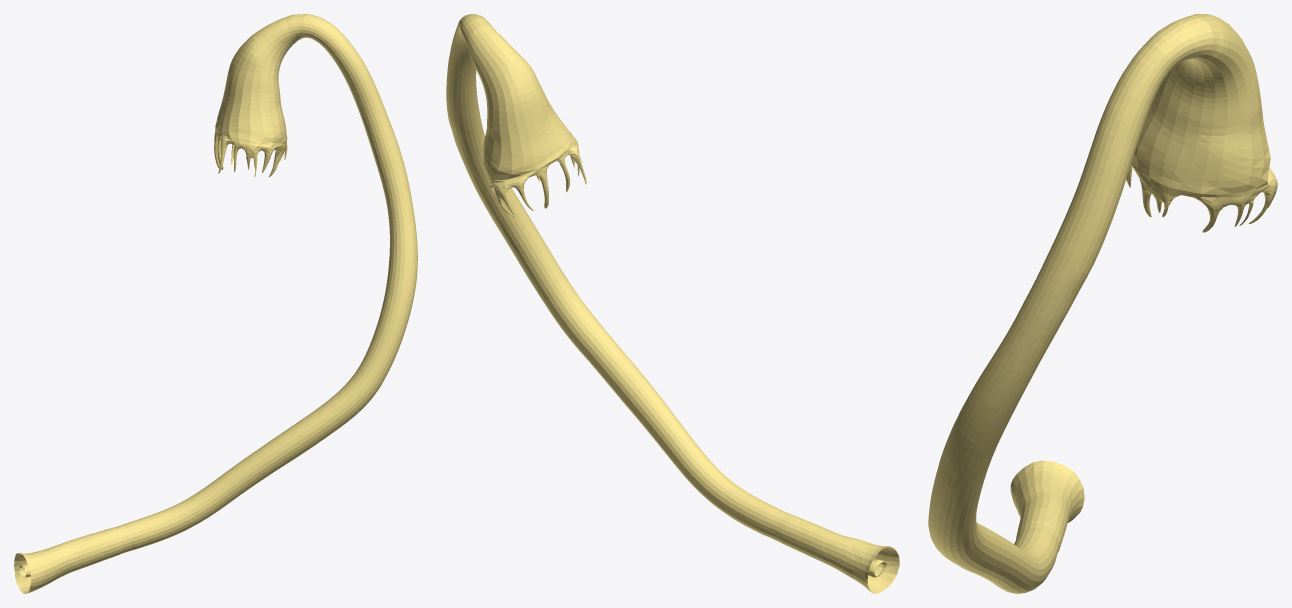
The model's file is organ-fallopian-tube.glb.
The picture shows the model from 3 angles, left to right: view 1: azimuth 30°, elevation 25°; view 2: azimuth 150°, elevation 25°; view 3: azimuth 270°, elevation 25°; orthographic projection. The views are drawn at different scales.
Visible parts, largest first — view 1: ampulla-of-uterine-tube, uterine-tube-infundibulum, isthmus-of-fallopian-tube, fimbria-of-uterine-tube; view 2: ampulla-of-uterine-tube, uterine-tube-infundibulum, isthmus-of-fallopian-tube, fimbria-of-uterine-tube; view 3: ampulla-of-uterine-tube, uterine-tube-infundibulum, isthmus-of-fallopian-tube, fimbria-of-uterine-tube.
Boxes of the visible parts, <box> form: ampulla-of-uterine-tube: <box>118,14,417,551</box>; uterine-tube-infundibulum: <box>215,15,299,142</box>; isthmus-of-fallopian-tube: <box>14,526,127,593</box>; fimbria-of-uterine-tube: <box>214,127,287,176</box>; ampulla-of-uterine-tube: <box>446,14,785,539</box>; uterine-tube-infundibulum: <box>465,26,574,180</box>; isthmus-of-fallopian-tube: <box>771,512,899,593</box>; fimbria-of-uterine-tube: <box>486,137,586,216</box>; ampulla-of-uterine-tube: <box>928,16,1213,593</box>; uterine-tube-infundibulum: <box>1133,14,1270,194</box>; isthmus-of-fallopian-tube: <box>1010,460,1084,551</box>; fimbria-of-uterine-tube: <box>1126,158,1277,232</box>.
Bounding box in the file's own units: 0.0386 × 0.0445 × 0.0185.
